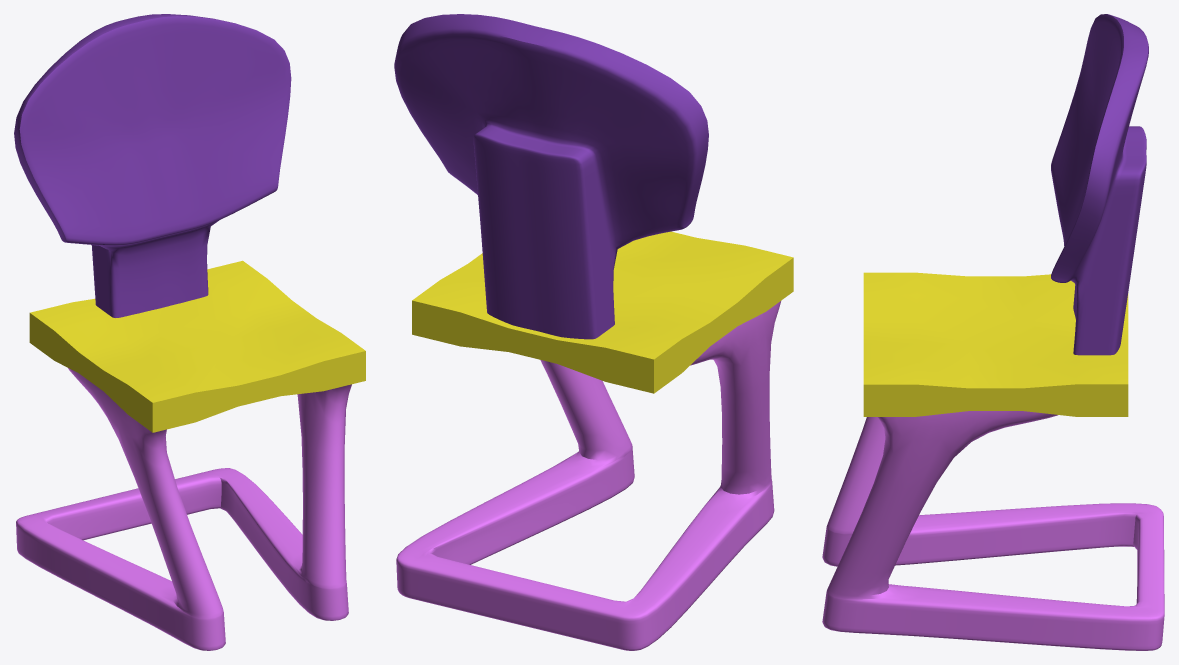
3 views of the same model, side by side, from view 1: azimuth 30°, elevation 25°; view 2: azimuth 150°, elevation 25°; view 3: azimuth 270°, elevation 25° (orthographic). The views are drawn at different scales.
Parts seen in each view (by area): view 1: Object_2.002, split_parent_1, Object_2; view 2: Object_2.002, split_parent_1, Object_2; view 3: split_parent_1, Object_2, Object_2.002.
Boxes of the visible parts, box(x1,y1,x2,y2) form: Object_2.002: box(14, 14, 291, 317); split_parent_1: box(16, 368, 351, 650); Object_2: box(29, 260, 365, 432); Object_2.002: box(394, 14, 708, 339); split_parent_1: box(396, 301, 780, 650); Object_2: box(412, 231, 793, 393); split_parent_1: box(822, 411, 1164, 650); Object_2: box(863, 272, 1128, 416); Object_2.002: box(1051, 14, 1148, 355).
Size of the model in its own units: 0.5499 by 1 by 0.5605.
